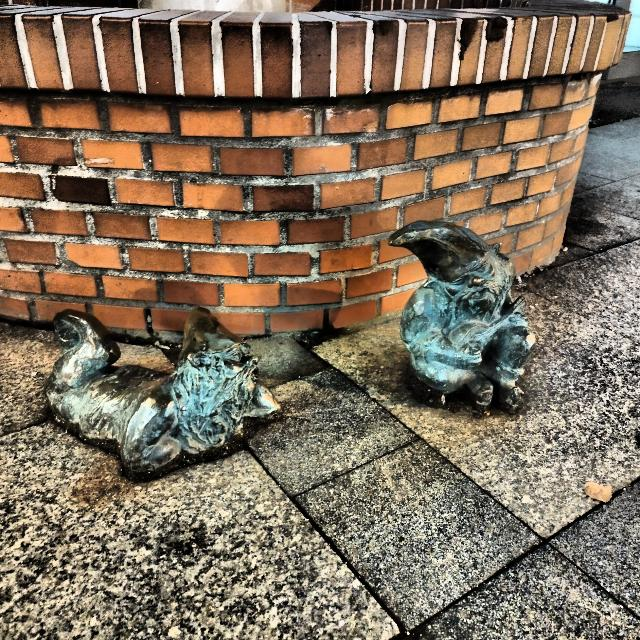Grajek_i_Meloman: (47, 221, 532, 473)
